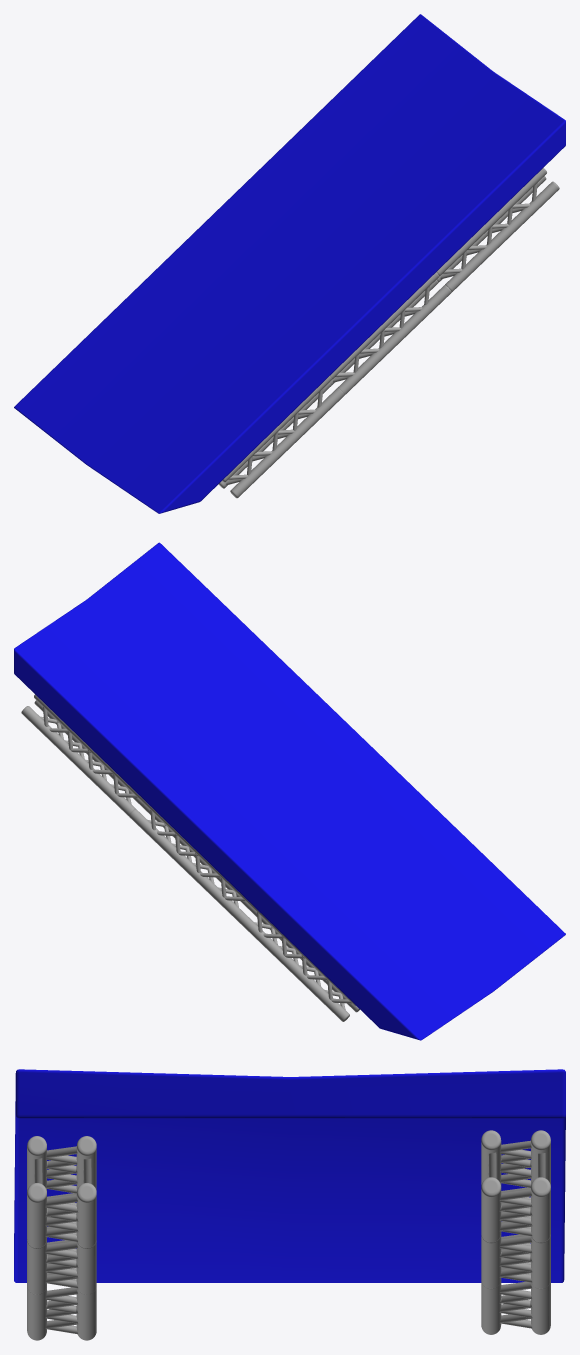
Rendered from SM_Plank_01.fbx.
3 views of the same model, one above another, from view 1: azimuth 30°, elevation 25°; view 2: azimuth 150°, elevation 25°; view 3: azimuth 270°, elevation 25° (orthographic). The views are drawn at different scales.
Parts seen in each view (by area): view 1: Cube.018; view 2: Cube.018; view 3: Cube.018.
Boxes of the visible parts, <box> form: Cube.018: <box>14,14,565,513</box>; Cube.018: <box>14,542,565,1040</box>; Cube.018: <box>14,1069,565,1340</box>.
Size of the model in its own units: 620 by 439 by 387.
